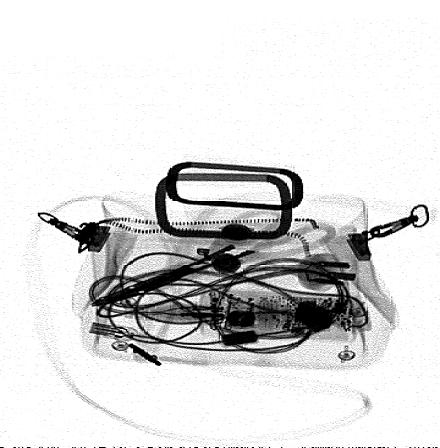Scissors: (87, 207, 339, 312)
